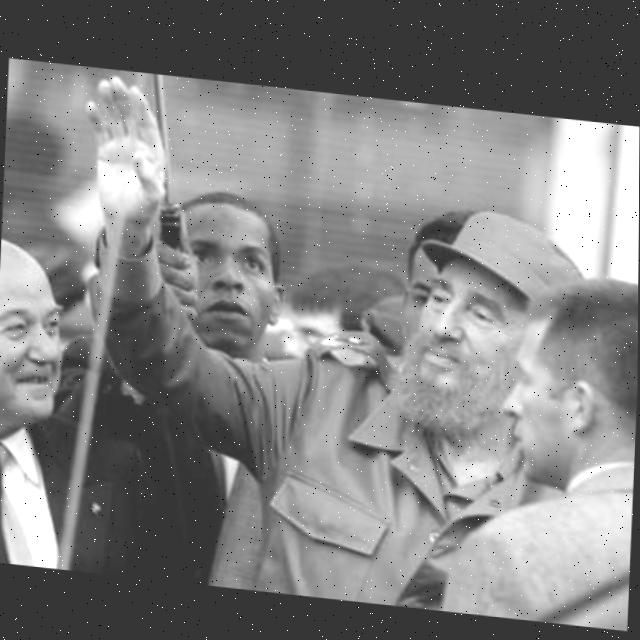face: (418, 217, 534, 438), (161, 198, 300, 375), (0, 239, 75, 432)
